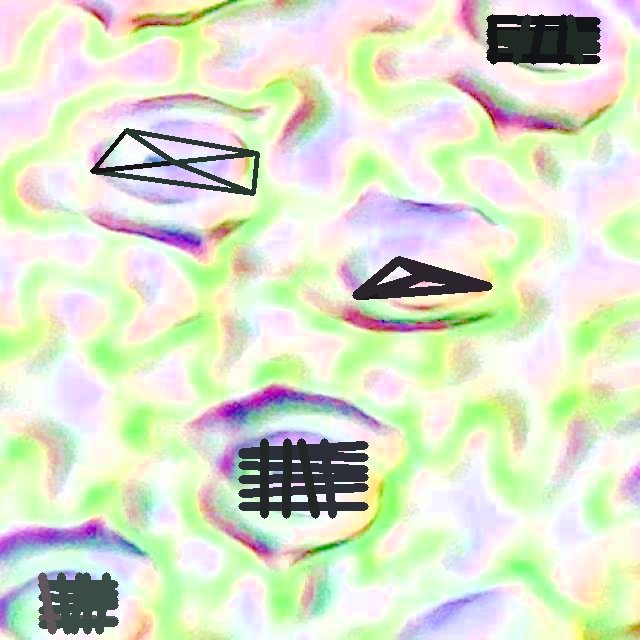open: (90, 128, 259, 195), (238, 439, 367, 517), (352, 256, 491, 297), (487, 14, 599, 63), (38, 572, 118, 634)
